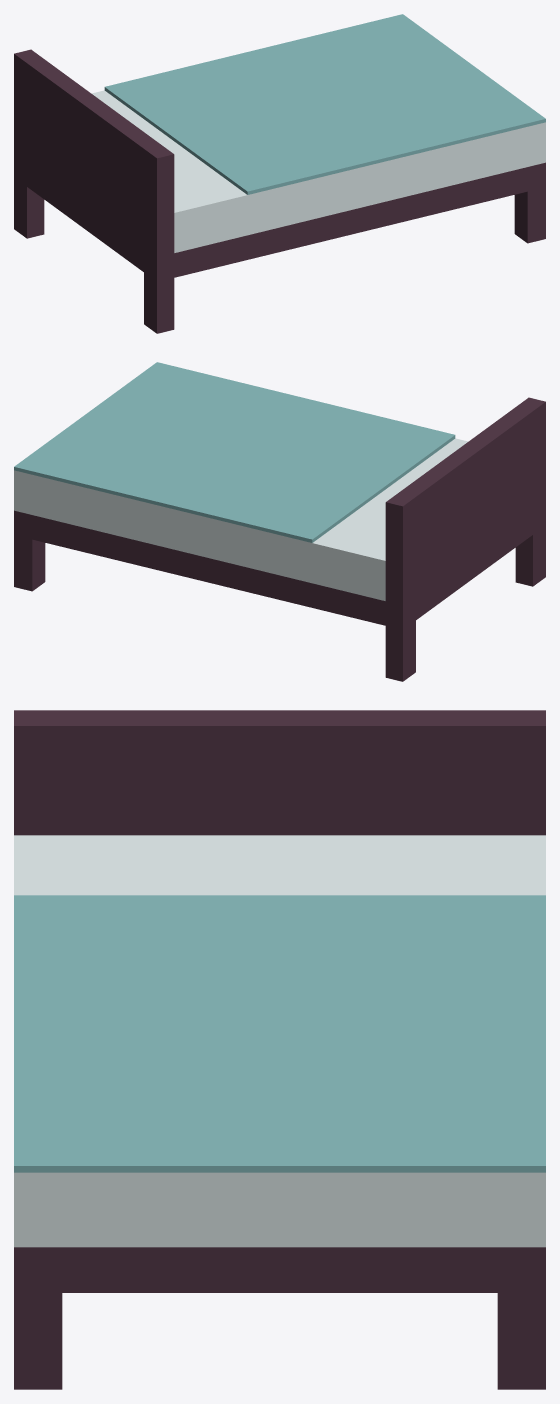
The model's file is Bed.fbx.
3 renders of one model, top to bottom at view 1: azimuth 30°, elevation 25°; view 2: azimuth 150°, elevation 25°; view 3: azimuth 270°, elevation 25°, orthographic. The views are drawn at different scales.
Visible parts, largest first — view 1: Bed; view 2: Bed; view 3: Bed.
Part boxes in pixels (bbox=[...]): Bed: bbox=[14, 14, 545, 333]; Bed: bbox=[14, 362, 545, 681]; Bed: bbox=[14, 710, 545, 1389].
Size of the model in its own units: 314 by 135 by 200.
